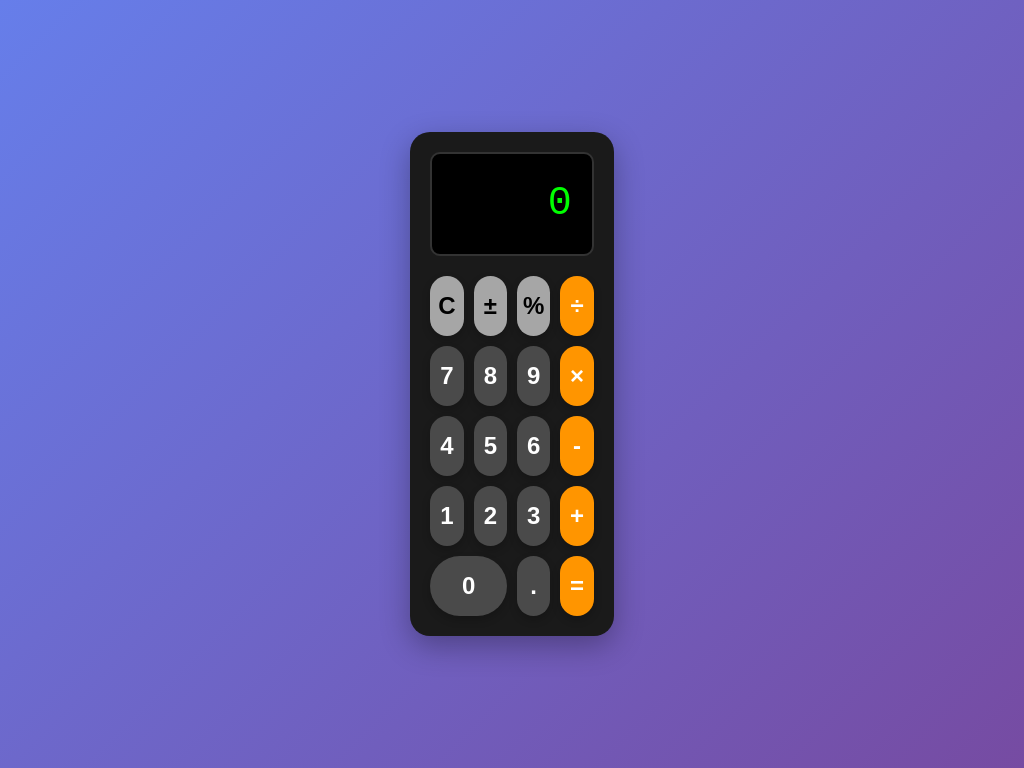
Scenario: Calculator › performs basic addition
Click the button "2": (490, 516) [474, 486, 507, 546]
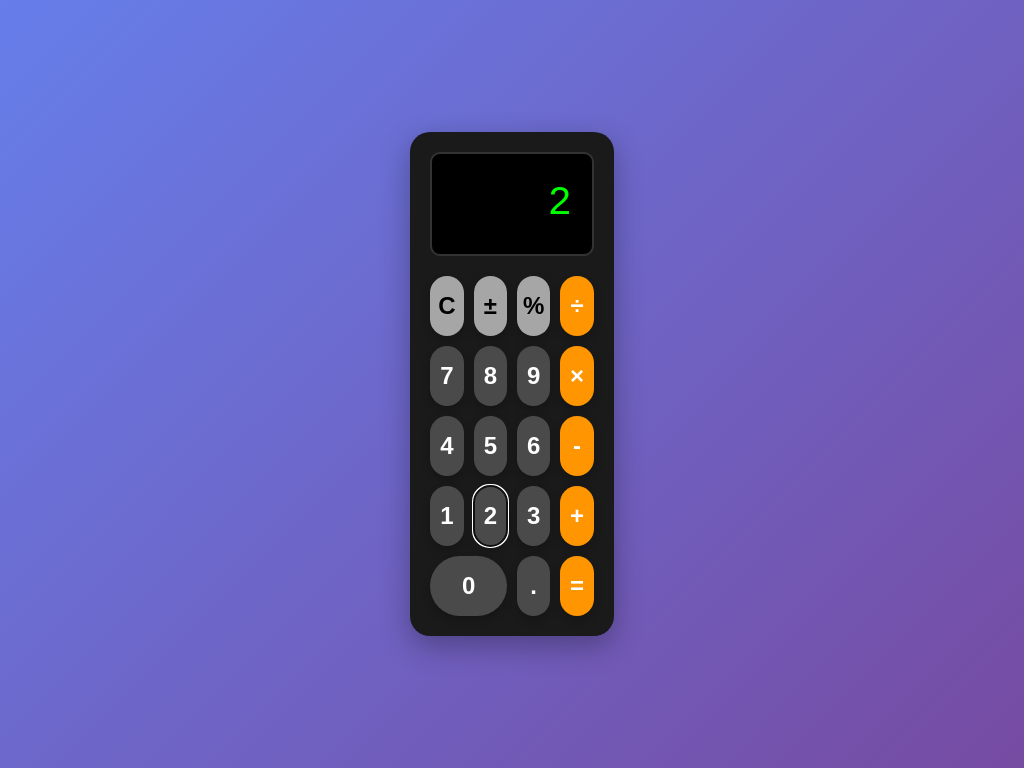
Click the button "+": (577, 516) [560, 486, 594, 546]
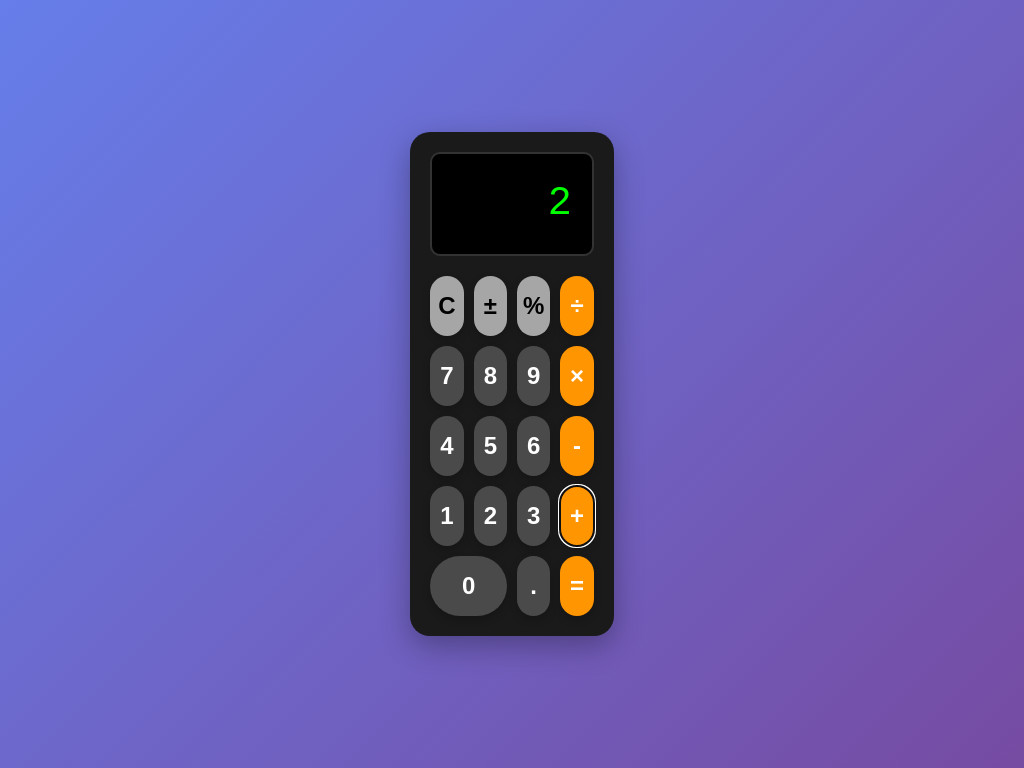
Click the button "3": (534, 516) [517, 486, 550, 546]
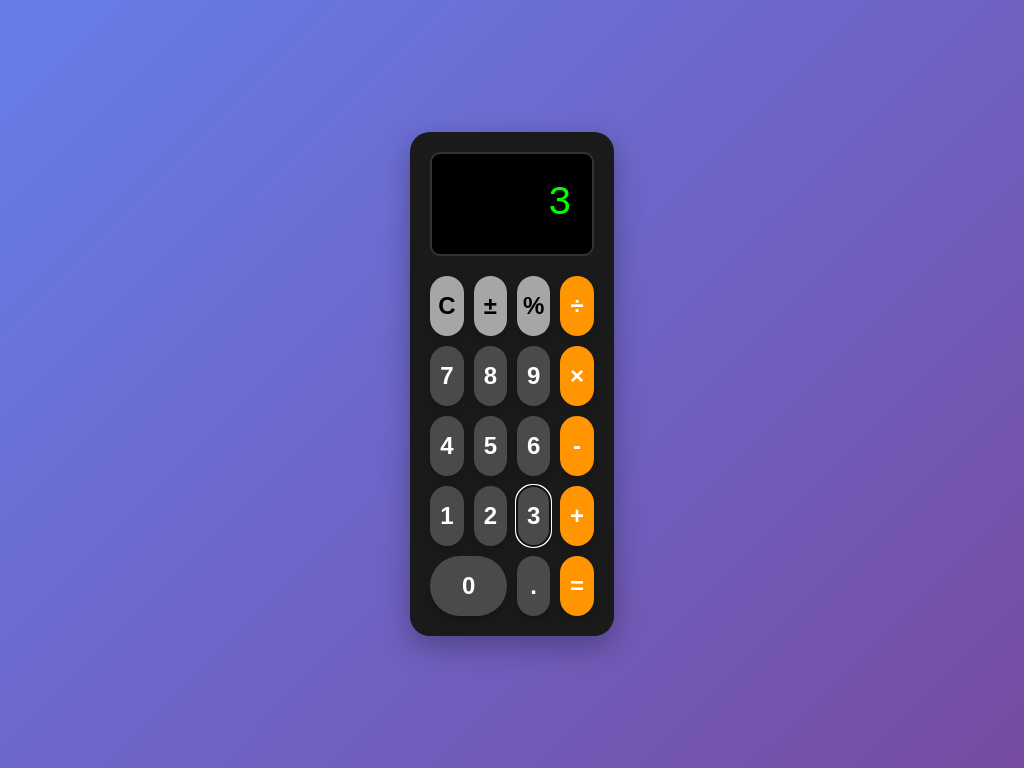
Click the button "=": (577, 586) [560, 556, 594, 616]
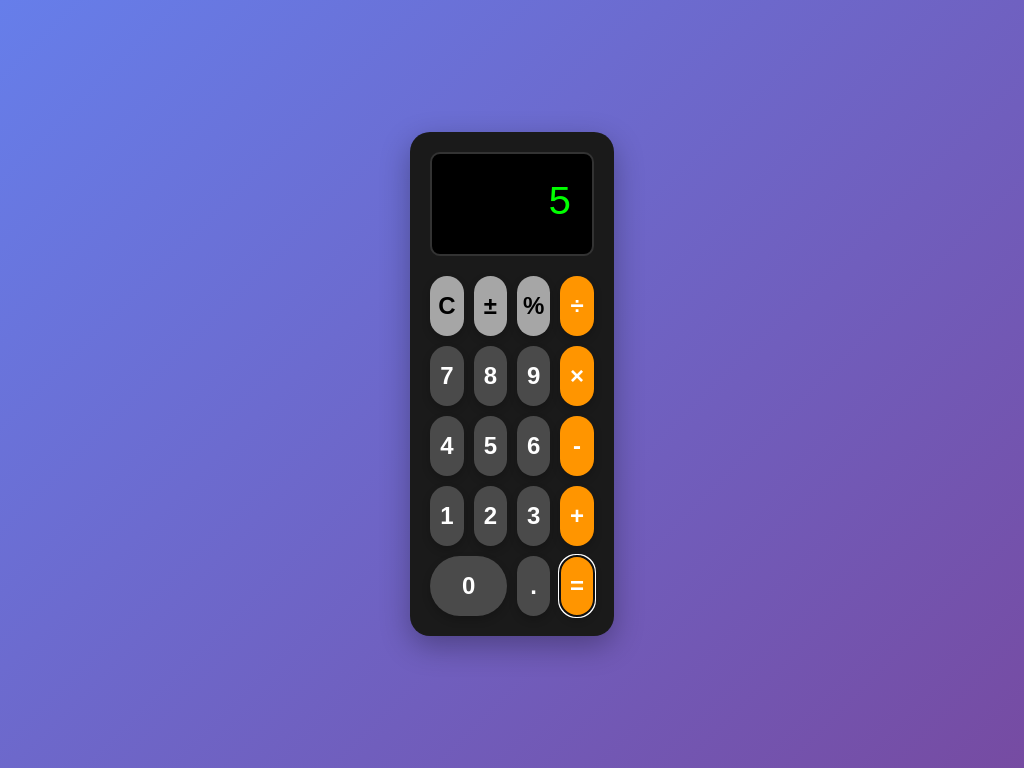
Expected: the text with class "display-value" reads "5", [548, 181, 572, 226]
